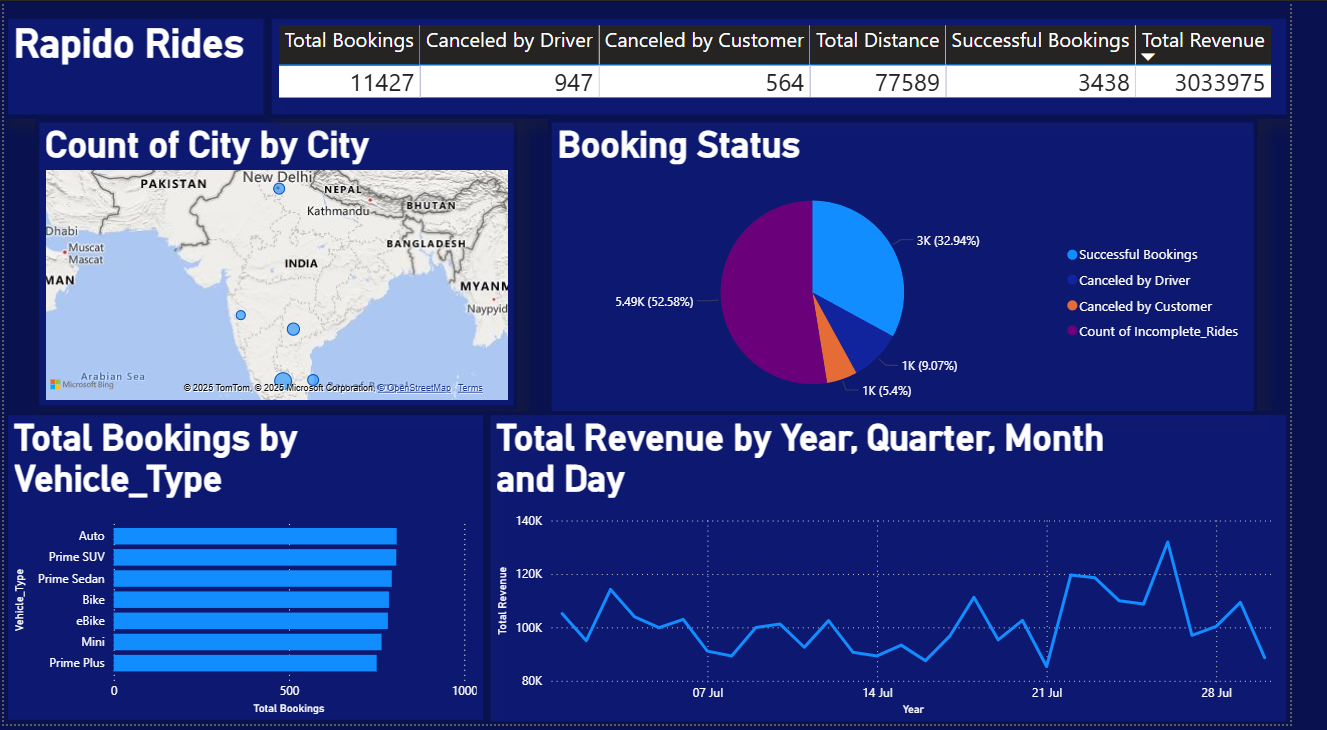

The dashboard page shown, as its layout file describes it:
{"tool":"powerbi","page":{"name":"Page 1","canvas":[1280,720],"ordinal":0},"visuals":[{"type":"textbox","title":"Rapido Rides ","box":[0,13.7,262.5,103.2],"z":0},{"type":"map","fields":{"Category":["Sheet1.City"],"Size":["CountNonNull(Sheet1.City)"]},"box":[31.6,116.6,480.3,289.5],"z":1000},{"type":"tableEx","fields":{"Values":["Sheet1.Total Bookings","Sheet1.Canceled by Driver","Sheet1.Canceled by Customer","Sheet1.Total Distance","Sheet1.Successful Bookings","Sheet1.Total Revenue"]},"box":[262.4,13.9,1017.9,103.4],"z":2000},{"type":"barChart","fields":{"Y":["Sheet1.Total Bookings"],"Category":["Sheet1.Vehicle_Type"]},"box":[0,408.1,480.7,311.4],"z":3000},{"type":"pieChart","title":"Booking Status","fields":{"Y":["Sheet1.Successful Bookings","Sheet1.Canceled by Driver","Sheet1.Canceled by Customer","CountNonNull(Sheet1.Incomplete_Rides)"]},"box":[540.7,116.6,706.7,300.5],"z":4000},{"type":"lineChart","fields":{"Y":["Sheet1.Total Revenue"],"Category":["Sheet1.Date.Variation.Date Hierarchy.Year","Sheet1.Date.Variation.Date Hierarchy.Quarter","Sheet1.Date.Variation.Date Hierarchy.Month","Sheet1.Date.Variation.Date Hierarchy.Day"]},"box":[480.3,407.5,800,312.9],"z":5000}]}

Visuals, with their boxes in screenshot pixels (x1, y1, x2, y2), scaled from the page's 1280x720 canvas onto the 1327x730 screenshot:
"Rapido Rides " textbox: {"x1": 0, "y1": 14, "x2": 272, "y2": 119}
map - Sheet1.City x CountNonNull(Sheet1.City): {"x1": 33, "y1": 118, "x2": 531, "y2": 412}
tableEx - Sheet1.Total Bookings x Sheet1.Canceled by Driver: {"x1": 272, "y1": 14, "x2": 1326, "y2": 119}
barChart - Sheet1.Total Bookings x Sheet1.Vehicle_Type: {"x1": 0, "y1": 414, "x2": 498, "y2": 729}
"Booking Status" pieChart: {"x1": 561, "y1": 118, "x2": 1293, "y2": 423}
lineChart - Sheet1.Total Revenue x Sheet1.Date.Variation.Date Hierarchy.Year: {"x1": 498, "y1": 413, "x2": 1326, "y2": 729}
